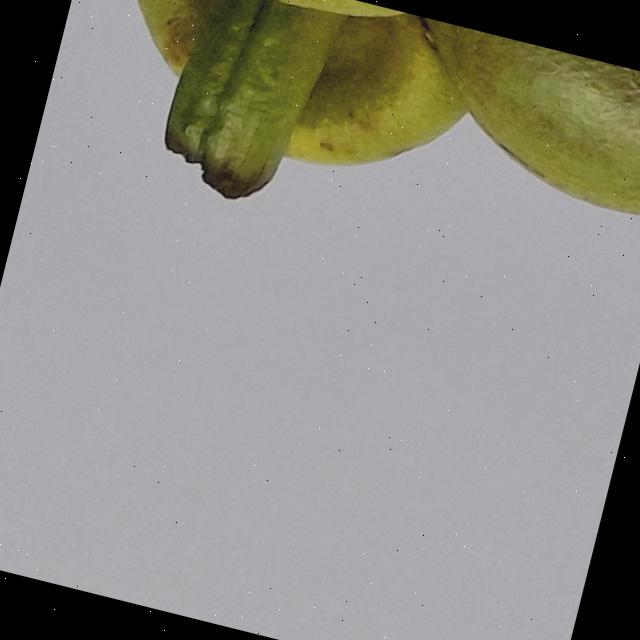mangosteen: (34, 0, 640, 300)
